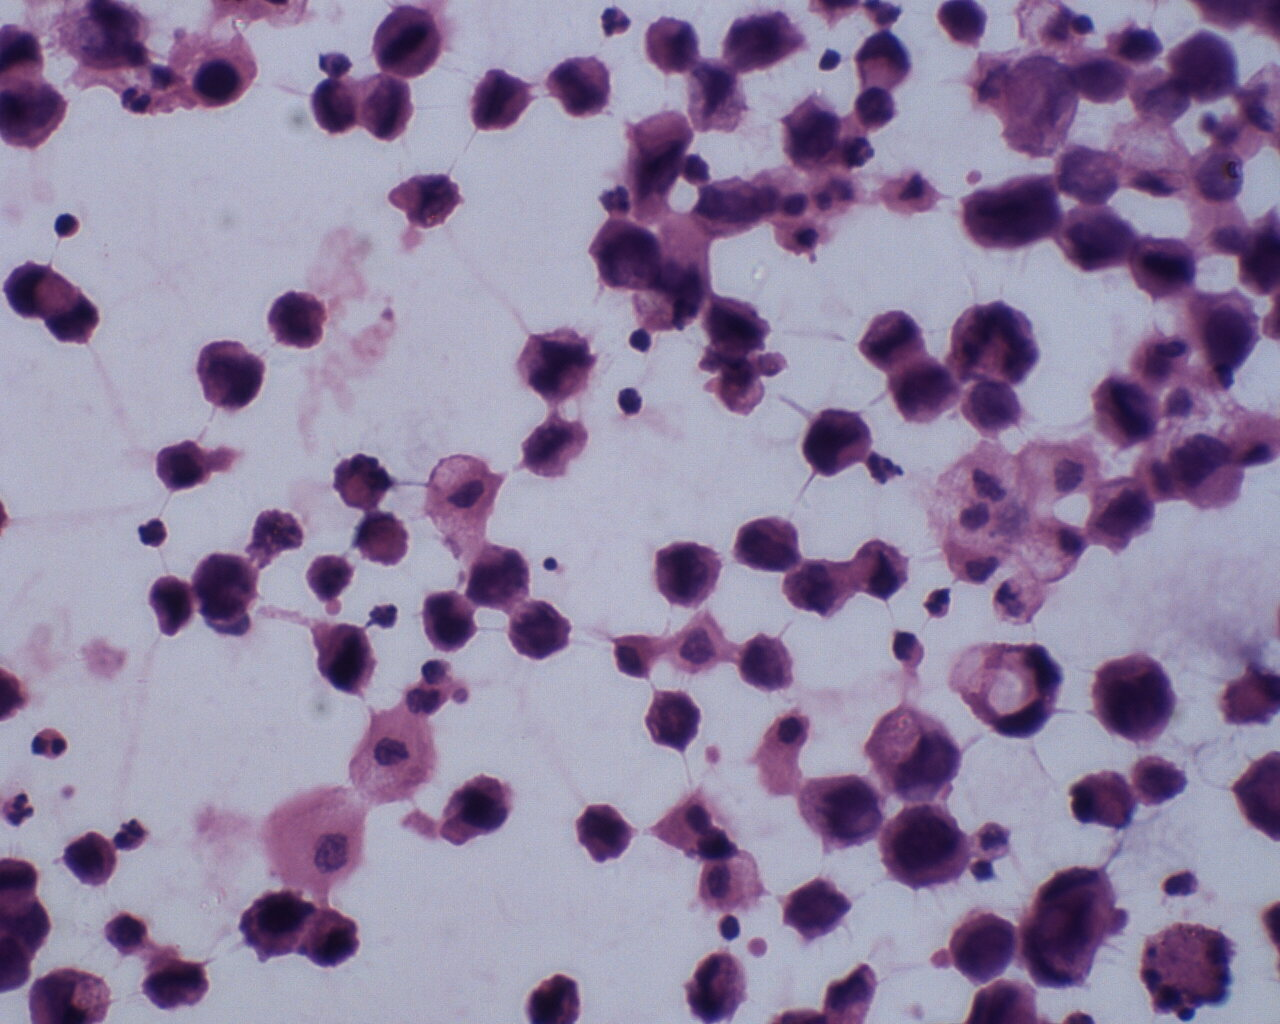ab: (956, 169, 1063, 253), (879, 800, 971, 895), (1093, 646, 1178, 746), (797, 767, 885, 857), (1187, 284, 1265, 382), (1055, 193, 1141, 276), (798, 397, 872, 480), (583, 216, 664, 292), (1089, 372, 1164, 450), (650, 536, 724, 615), (239, 883, 310, 964), (309, 619, 380, 699), (438, 769, 507, 852), (950, 908, 1017, 992), (194, 338, 267, 410), (194, 546, 261, 625), (1134, 227, 1198, 305), (890, 355, 960, 425), (466, 62, 534, 134), (737, 627, 801, 699), (509, 599, 578, 665), (541, 54, 613, 117), (735, 514, 804, 577), (267, 286, 333, 351), (644, 682, 702, 753), (418, 584, 478, 653), (64, 819, 117, 894), (304, 73, 364, 140), (145, 573, 197, 639)
histo: (256, 782, 378, 895), (347, 708, 436, 807)
lymph: (44, 207, 83, 241)
neutro: (2, 787, 40, 828), (597, 1, 634, 41), (918, 583, 955, 618)
